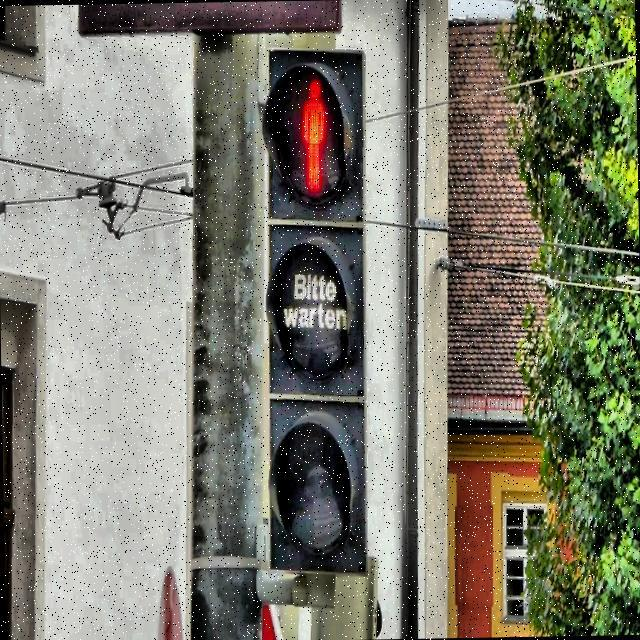red_light: (298, 76, 328, 194)
